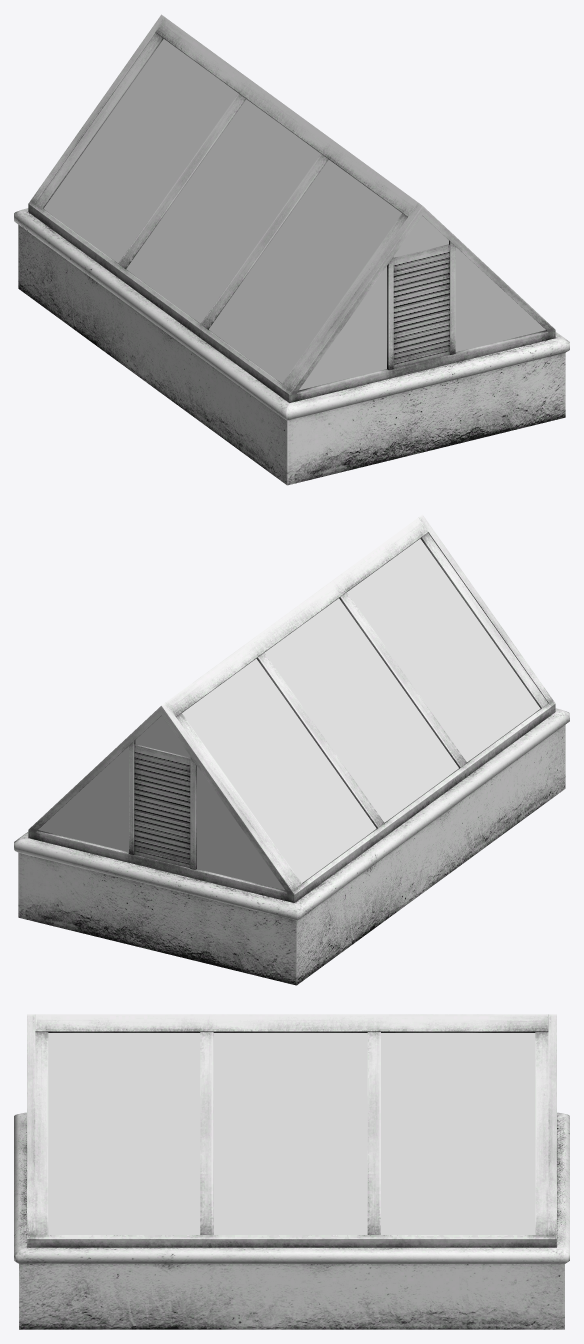
The model's file is M_Skylight_01.dae.
3 renders of one model, top to bottom at view 1: azimuth 30°, elevation 25°; view 2: azimuth 150°, elevation 25°; view 3: azimuth 270°, elevation 25°, orthographic.
Parts seen in each view (by area): view 1: S_Skylight_01.004, S_Skylight_01.003; view 2: S_Skylight_01.004, S_Skylight_01.003; view 3: S_Skylight_01.003, S_Skylight_01.004.
Boxes of the visible parts, x1=… form: S_Skylight_01.004: x1=14, y1=14, x2=569, y2=485; S_Skylight_01.003: x1=43, y1=39, x2=545, y2=390; S_Skylight_01.004: x1=14, y1=514, x2=569, y2=985; S_Skylight_01.003: x1=38, y1=538, x2=540, y2=890; S_Skylight_01.003: x1=48, y1=1033, x2=535, y2=1234; S_Skylight_01.004: x1=14, y1=1014, x2=569, y2=1329.
Bounding box in the file's own units: 116 × 192 × 94.
